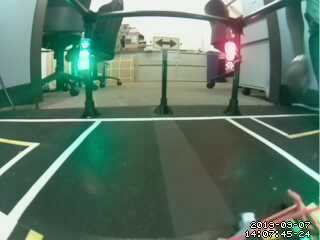Left_Right_sign: (148, 33, 183, 52)
Traffic_light_green: (74, 35, 92, 73)
Traffic_light_red: (222, 35, 237, 75)
